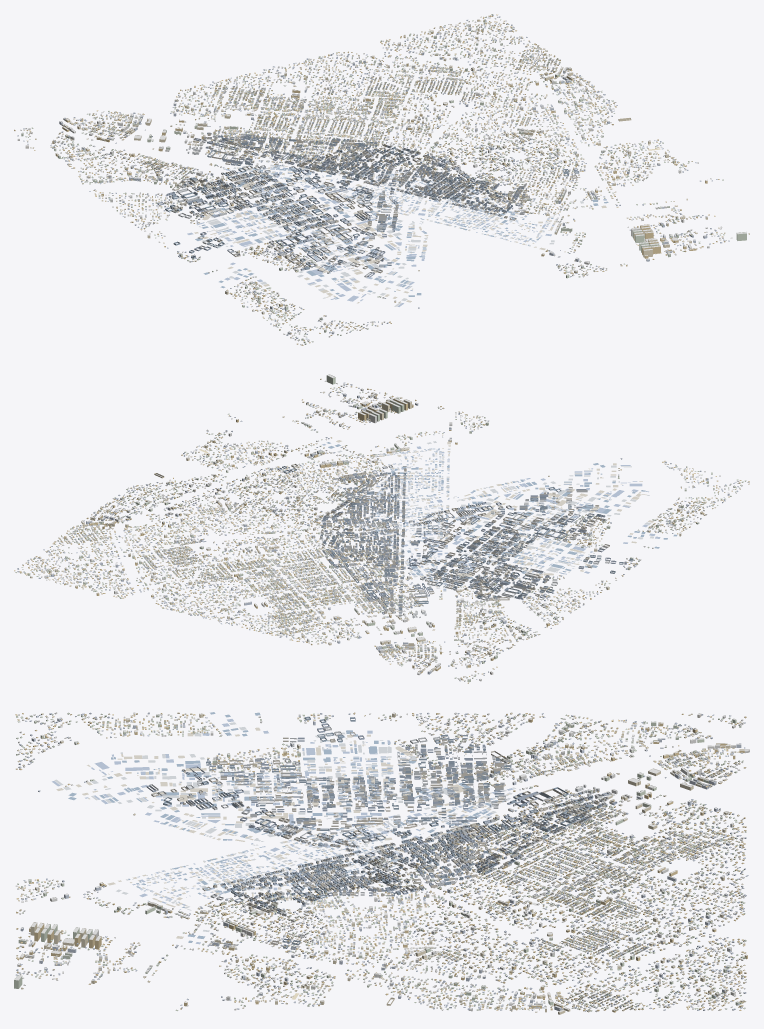
The picture shows the model from 3 angles, top to bottom: view 1: azimuth 30°, elevation 25°; view 2: azimuth 150°, elevation 25°; view 3: azimuth 270°, elevation 25°; orthographic projection. The views are drawn at different scales.
Visible parts, largest first — view 1: house, roof_zinc, factory, apartment, roof_flat; view 2: house, roof_zinc, factory, apartment, roof_flat; view 3: house, roof_zinc, factory, apartment, roof_flat.
Boxes of the visible parts, <box> form: house: <box>14,14,749,345</box>; roof_zinc: <box>14,14,749,345</box>; factory: <box>157,118,631,277</box>; apartment: <box>17,19,746,340</box>; roof_flat: <box>18,19,746,338</box>; house: <box>14,379,749,683</box>; roof_zinc: <box>14,378,749,682</box>; factory: <box>154,464,633,616</box>; apartment: <box>27,374,735,682</box>; roof_flat: <box>28,374,734,679</box>; house: <box>15,712,748,1011</box>; roof_zinc: <box>16,712,747,1010</box>; factory: <box>146,716,617,1005</box>; apartment: <box>14,712,749,1014</box>; roof_flat: <box>14,713,749,1012</box>.
Bounding box in the file's own units: 1.4e+08 × 1885846 × 1.46e+08.
